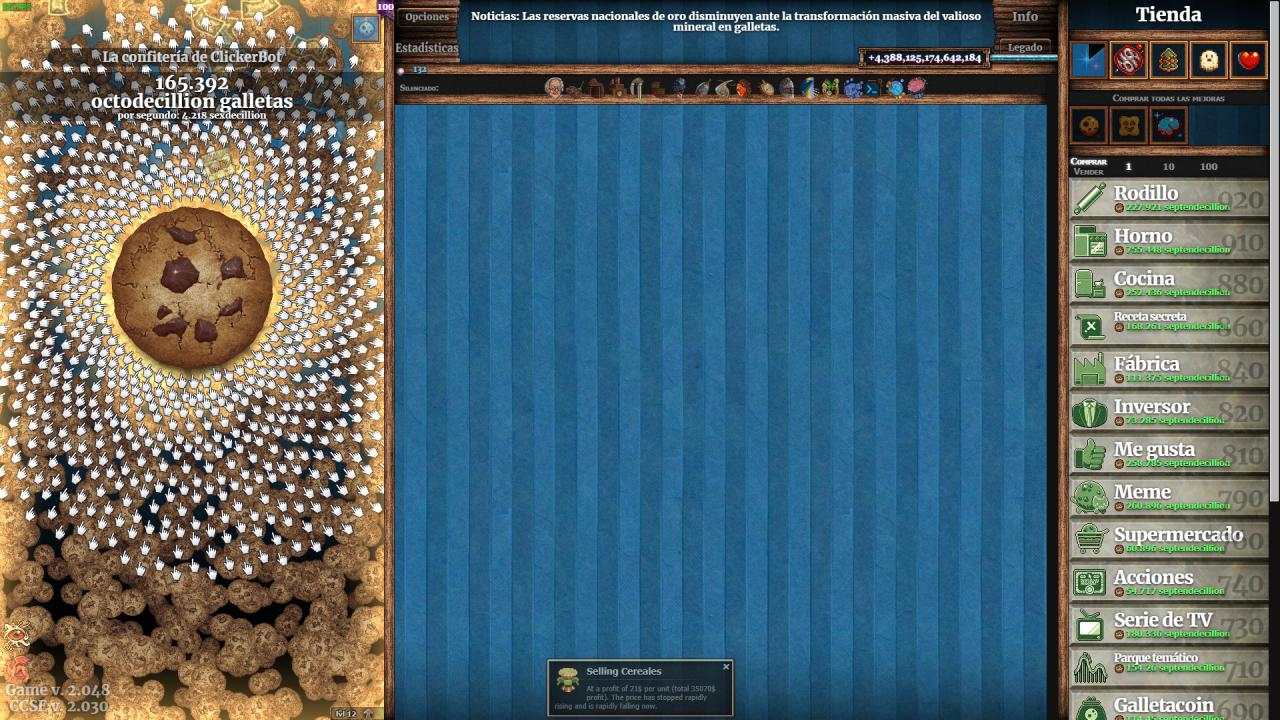GoldenCartridge: (200, 146, 238, 184)
